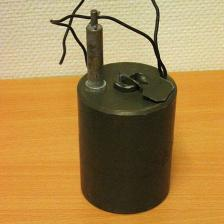OZM-72: (70, 22, 180, 215)
